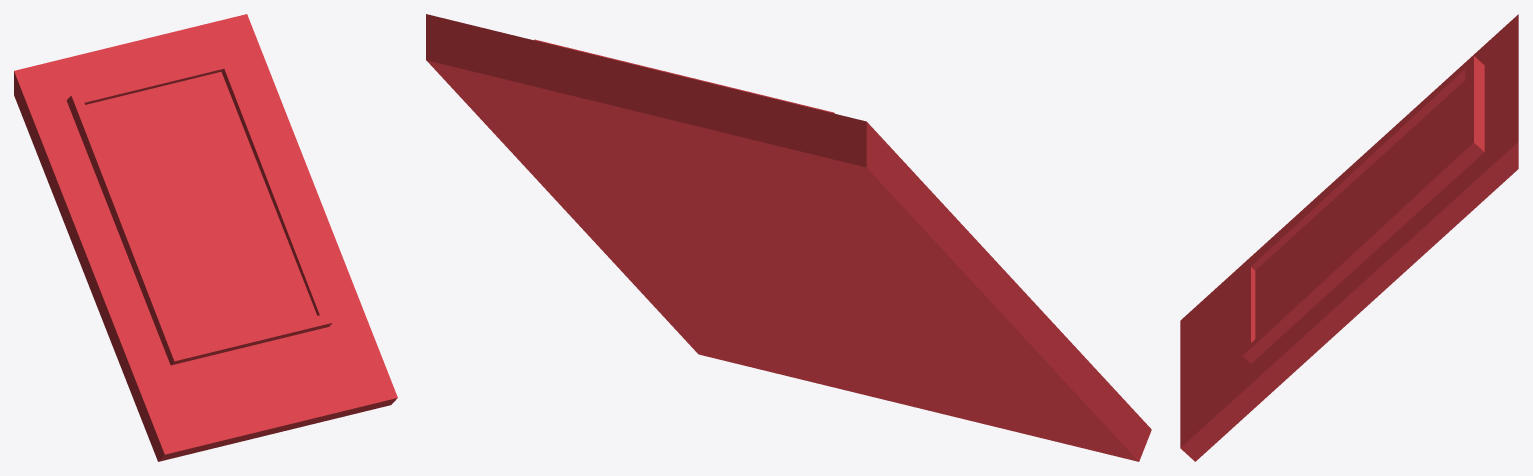
File: roof_skylight_2.glb
3 renders of one model, left to right at view 1: azimuth 30°, elevation 25°; view 2: azimuth 150°, elevation 25°; view 3: azimuth 270°, elevation 25°, orthographic. The views are drawn at different scales.
Visible parts, largest first — view 1: roof_skylight_2; view 2: roof_skylight_2; view 3: roof_skylight_2.
Boxes of the visible parts, bbox=[...] form: roof_skylight_2: bbox=[14, 14, 397, 461]; roof_skylight_2: bbox=[426, 14, 1151, 461]; roof_skylight_2: bbox=[1180, 14, 1518, 461].
Bounding box in the file's own units: 1 × 1.17 × 1.12.
